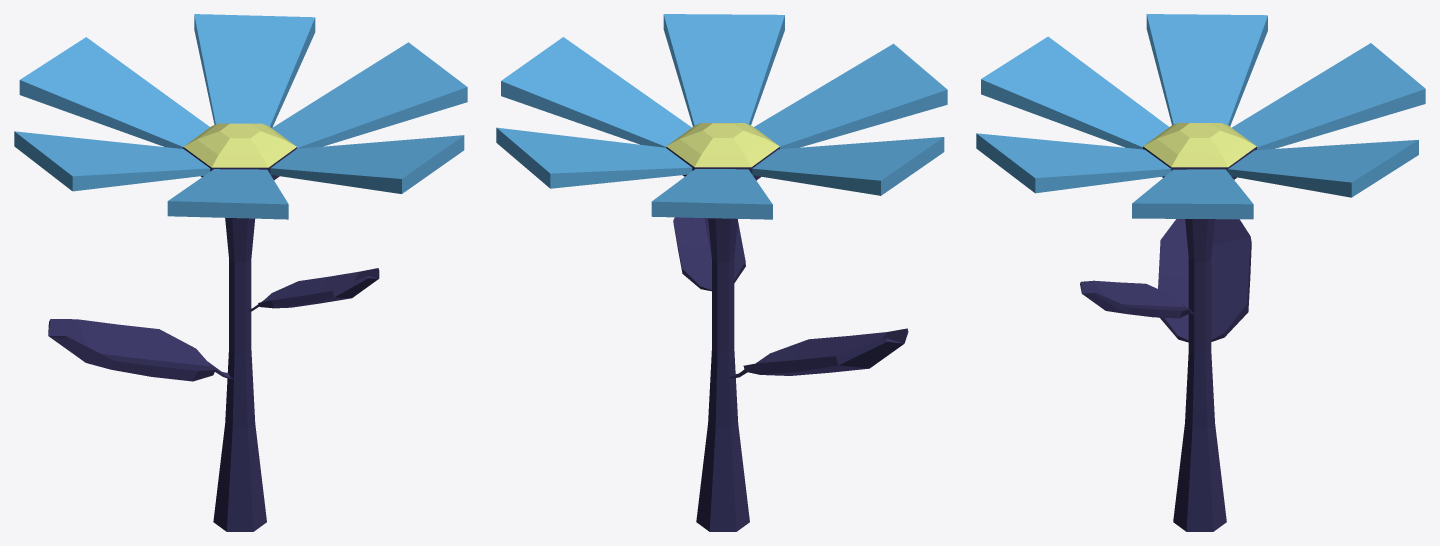
File: flower7.fbx
3 views of the same model, side by side, from view 1: azimuth 30°, elevation 25°; view 2: azimuth 150°, elevation 25°; view 3: azimuth 270°, elevation 25° (orthographic).
Parts seen in each view (by area): view 1: Cube, Circle; view 2: Cube, Circle; view 3: Cube, Circle.
Boxes of the visible parts, x1,y1,x2,y2 form: Cube: (14,14,467,219); Circle: (48,123,379,531); Cube: (496,14,947,219); Circle: (666,123,908,531); Cube: (976,14,1425,219); Circle: (1080,123,1256,531).
Size of the model in its own units: 991 by 1004 by 990.
